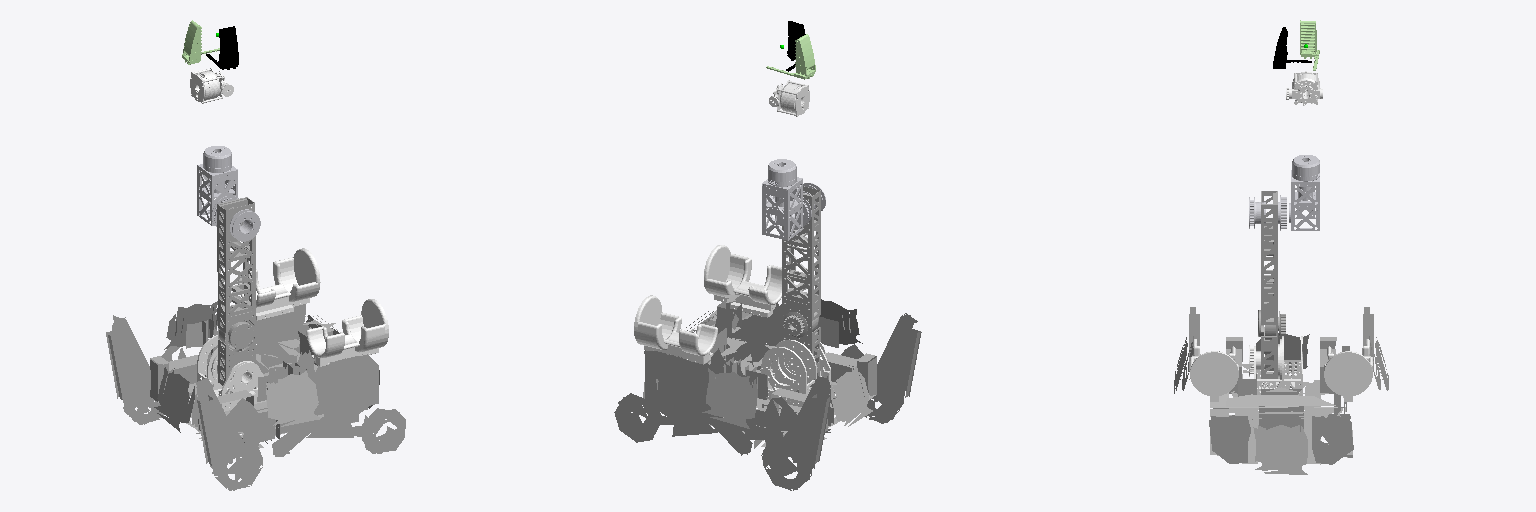
URDF robot description (engineer_v4):
<?xml version="1.0" encoding="utf-8"?>
<!-- This URDF was automatically created by SolidWorks to URDF Exporter! Originally created by
Stephen Brawner (brawner@gmail.com) 
     Commit Version: 1.6.0-4-g7f85cfe  Build Version: 1.6.7995.38578
     For more information, please see http://wiki.ros.org/sw_urdf_exporter -->
<robot
  name="engineer_v4">
  <link
    name="base_link">
    <visual>
      <origin
        xyz="0 0 0"
        rpy="0 0 0" />
      <geometry>
        <mesh
          filename="package://engineer_description/dae/base_link.dae" />
      </geometry>
      <material
        name="">
        <color
          rgba="0.752941176470588 0.752941176470588 0.752941176470588 1" />
      </material>
    </visual>
    <collision>
      <origin
        xyz="0 0 0"
        rpy="0 0 0" />
      <geometry>
        <mesh
          filename="package://engineer_description/collision_dae/base_link.dae" />
      </geometry>
    </collision>
  </link>
  <link
    name="first_slot_link">
    <inertial>
      <origin
        xyz="-0.0299725860567126 -0.0210010541511428 0.000555965757073434"
        rpy="0 0 0" />
      <mass
        value="0.457371475868407" />
      <inertia
        ixx="0.0016314209173607"
        ixy="0.00026727505312052"
        ixz="-7.66197935861787E-05"
        iyy="0.00078447026147815"
        iyz="2.16490673979245E-05"
        izz="0.0016245960496577" />
    </inertial>
    <visual>
      <origin
        xyz="0 0 0"
        rpy="0 0 0" />
      <geometry>
        <mesh
          filename="package://engineer_description/dae/first_slot_link.dae" />
      </geometry>
      <material
        name="">
        <color
          rgba="1 1 1 1" />
      </material>
    </visual>
    <collision>
      <origin
        xyz="0 0 0"
        rpy="0 0 0" />
      <geometry>
        <mesh
          filename="package://engineer_description/collision_dae/first_slot_link.dae" />
      </geometry>
    </collision>
  </link>
  <joint
    name="first_slot_joint"
    type="fixed">
    <origin
      xyz="-0.0472031541832538 0.0300245045193264 0.252923029552021"
      rpy="1.5707963267949 -1.5707963267949 0" />
    <parent
      link="base_link" />
    <child
      link="first_slot_link" />
  </joint>
  <link
    name="second_slot_link">
    <inertial>
      <origin
        xyz="-0.021001166224167 0.0299723666797443 -0.00055561544707089"
        rpy="0 0 0" />
      <mass
        value="0.457374603004739" />
      <inertia
        ixx="0.000784480991192641"
        ixy="-0.000267276658814494"
        ixz="-2.16458688800345E-05"
        iyy="0.00163143018140389"
        iyz="-7.66141894052885E-05"
        izz="0.00162460052222523" />
    </inertial>
    <visual>
      <origin
        xyz="0 0 0"
        rpy="0 0 0" />
      <geometry>
        <mesh
          filename="package://engineer_description/dae/second_slot_link.dae" />
      </geometry>
      <material
        name="">
        <color
          rgba="1 1 1 1" />
      </material>
    </visual>
    <collision>
      <origin
        xyz="0 0 0"
        rpy="0 0 0" />
      <geometry>
        <mesh
          filename="package://engineer_description/collision_dae/second_slot_link.dae" />
      </geometry>
    </collision>
  </link>
  <joint
    name="second_slot_joint"
    type="fixed">
    <origin
      xyz="-0.0472031541832538 0.351024504519326 0.252923029552022"
      rpy="-1.5707963267949 0 3.14159265358979" />
    <parent
      link="base_link" />
    <child
      link="second_slot_link" />
  </joint>
  <link
    name="link1">
    <inertial>
      <origin
        xyz="-0.000357188269648423 0.000760222726987003 0.0730604097875659"
        rpy="0 0 0" />
      <mass
        value="1.2003246264795" />
      <inertia
        ixx="0.00110344971414483"
        ixy="4.36857458704849E-07"
        ixz="-1.06862312344359E-05"
        iyy="0.00168216080239019"
        iyz="8.42838995009528E-06"
        izz="0.00125099173868682" />
    </inertial>
    <visual>
      <origin
        xyz="0 0 0"
        rpy="0 0 0" />
      <geometry>
        <mesh
          filename="package://engineer_description/dae/link1.dae" />
      </geometry>
      <material
        name="">
        <color
          rgba="1 1 1 1" />
      </material>
    </visual>
    <collision>
      <origin
        xyz="0 0 0"
        rpy="0 0 0" />
      <geometry>
        <mesh
          filename="package://engineer_description/collision_dae/link1.dae" />
      </geometry>
    </collision>
  </link>
  <joint
    name="joint1"
    type="revolute">
    <origin
      xyz="-0.26120753672974 0.190524504519326 0.0574255541278649"
      rpy="0 0 3.14159265358979" />
    <parent
      link="base_link" />
    <child
      link="link1" />
    <axis
      xyz="0 0 1" />
    <limit
      lower="-3.14"
      upper="3.14"
      effort="0"
      velocity="0" />
  </joint>
  <link
    name="link2">
    <inertial>
      <origin
        xyz="0.196899648904097 -6.8962282289059E-05 0.0232173591328277"
        rpy="0 0 0" />
      <mass
        value="0.813392084625707" />
      <inertia
        ixx="0.000673036789229952"
        ixy="9.0752917954777E-08"
        ixz="-5.63337289441532E-05"
        iyy="0.0076831561117122"
        iyz="1.5848153385153E-07"
        izz="0.00815581445851113" />
    </inertial>
    <visual>
      <origin
        xyz="0 0 0"
        rpy="0 0 0" />
      <geometry>
        <mesh
          filename="package://engineer_description/dae/link2.dae" />
      </geometry>
      <material
        name="">
        <color
          rgba="0.752941176470588 0.752941176470588 0.752941176470588 1" />
      </material>
    </visual>
    <collision>
      <origin
        xyz="0 0 0"
        rpy="0 0 0" />
      <geometry>
        <mesh
          filename="package://engineer_description/collision_dae/link2.dae" />
      </geometry>
    </collision>
  </link>
  <joint
    name="joint2"
    type="revolute">
    <origin
      xyz="0 0 0.0910000000000011"
      rpy="-1.5707963267949 -1.568 0" />
    <parent
      link="link1" />
    <child
      link="link2" />
    <axis
      xyz="0 0 -1" />
    <limit
      lower="-0.9888"
      upper="1.2000"
      effort="0"
      velocity="0" />
  </joint>
  <link
    name="link3">
    <inertial>
      <origin
        xyz="-0.0183011171276036 -0.0564030679655175 0.0343124536185257"
        rpy="0 0 0" />
      <mass
        value="0.799120380289198" />
      <inertia
        ixx="0.000564646098922074"
        ixy="-1.38701383125454E-05"
        ixz="-1.42774820952325E-06"
        iyy="0.000525908835793181"
        iyz="-5.04104927677511E-06"
        izz="0.000668018718919332" />
    </inertial>
    <visual>
      <origin
        xyz="0 0 0"
        rpy="0 0 0" />
      <geometry>
        <mesh
          filename="package://engineer_description/dae/link3.dae" />
      </geometry>
      <material
        name="">
        <color
          rgba="0.866666666666667 0.866666666666667 0.890196078431372 1" />
      </material>
    </visual>
    <collision>
      <origin
        xyz="0 0 0"
        rpy="0 0 0" />
      <geometry>
        <mesh
          filename="package://engineer_description/collision_dae/link3.dae" />
      </geometry>
    </collision>
  </link>
  <joint
    name="joint3"
    type="revolute">
    <origin
      xyz="0.389999999999999 0 0"
      rpy="-3.14159265358979 0 -1.89" />
    <parent
      link="link2" />
    <child
      link="link3" />
    <axis
      xyz="0 0 1" />
    <limit
      lower="-2.8624"
      upper="2.6543"
      effort="0"
      velocity="0" />
  </joint>
  <link
    name="link4">
    <inertial>
      <origin
        xyz="-1.85366305129886E-05 0.00353819121598634 -0.210577010456394"
        rpy="0 0 0" />
      <mass
        value="0.451620229714316" />
      <inertia
        ixx="0.000450940900760466"
        ixy="-5.15815844889911E-08"
        ixz="-2.49726005905619E-08"
        iyy="0.000475467864605353"
        iyz="5.42674576797712E-10"
        izz="0.000173374319286848" />
    </inertial>
    <visual>
      <origin
        xyz="0 0 0"
        rpy="0 0 0" />
      <geometry>
        <mesh
          filename="package://engineer_description/dae/link4.dae" />
      </geometry>
      <material
        name="">
        <color
          rgba="0.898039215686275 0.917647058823529 0.929411764705882 1" />
      </material>
    </visual>
    <collision>
      <origin
        xyz="0 0 0"
        rpy="0 0 0" />
      <geometry>
        <mesh
          filename="package://engineer_description/collision_dae/link4.dae" />
      </geometry>
    </collision>
  </link>
  <joint
    name="joint4"
    type="revolute">
    <origin
      xyz="0 0 0.0591999999999989"
      rpy="1.5707963267949 0 2.82801601798317" />
    <parent
      link="link3" />
    <child
      link="link4" />
    <axis
      xyz="0 0 -1" />
    <limit
      lower="-3.14"
      upper="3.14"
      effort="0"
      velocity="0" />
  </joint>
  <link
    name="link5">
    <inertial>
      <origin
        xyz="0.0236461854249562 0.000252585259627791 -3.10582093318579E-06"
        rpy="0 0 0" />
      <mass
        value="0.386292385114177" />
      <inertia
        ixx="0.000206580198244635"
        ixy="1.16898826944609E-07"
        ixz="-1.22627594636964E-08"
        iyy="0.000128593321208887"
        iyz="-3.66505131431251E-09"
        izz="0.000117816851749595" />
    </inertial>
    <visual>
      <origin
        xyz="0 0 0"
        rpy="0 0 0" />
      <geometry>
        <mesh
          filename="package://engineer_description/dae/link5.dae" />
      </geometry>
      <material
        name="">
        <color
          rgba="1 1 1 1" />
      </material>
    </visual>
    <collision>
      <origin
        xyz="0 0 0"
        rpy="0 0 0" />
      <geometry>
        <mesh
          filename="package://engineer_description/collision_dae/link5.dae" />
      </geometry>
    </collision>
  </link>
  <joint
    name="joint5"
    type="revolute">
    <origin
      xyz="0 0 -0.314999999999995"
      rpy="1.5707963267949 -1.5707963267949 0" />
    <parent
      link="link4" />
    <child
      link="link5" />
    <axis
      xyz="0 0 -1" />
    <limit
      lower="-1.6828"
      upper="1.6828"
      effort="0"
      velocity="0" />
  </joint>
  <link
    name="link6">
    <inertial>
      <origin
        xyz="-2.92607973814696E-06 -2.88445725311615E-05 0.0543651305617022"
        rpy="0 0 0" />
      <mass
        value="0.288814280860144" />
      <inertia
        ixx="0.000215298648963599"
        ixy="-1.1564148562091E-05"
        ixz="-2.94525426553043E-09"
        iyy="7.55153561166776E-05"
        iyz="-4.25732713011413E-08"
        izz="0.000255880381587993" />
    </inertial>
    <visual>
      <origin
        xyz="0 0 0"
        rpy="0 0 0" />
      <geometry>
        <mesh
          filename="package://engineer_description/dae/link6.dae" />
      </geometry>
      <material
        name="">
        <color
          rgba="0.113725490196078 0.113725490196078 0.113725490196078 1" />
      </material>
    </visual>
    <collision>
      <origin
        xyz="0 0 0"
        rpy="0 0 0" />
      <geometry>
        <mesh
          filename="package://engineer_description/collision_dae/link6.dae" />
      </geometry>
    </collision>
  </link>
  <joint
    name="joint6"
    type="revolute">
    <origin
      xyz="0 0 0"
      rpy="3.13387314293277 1.5707963267949 0" />
    <parent
      link="link5" />
    <child
      link="link6" />
    <axis
      xyz="0 0 1" />
    <limit
      lower="-3.14"
      upper="3.14"
      effort="0"
      velocity="0" />
  </joint>
  <link
    name="right_finger_link">
    <inertial>
      <origin
        xyz="0.061259614914889 -0.00106641408212199 0.0351652091113552"
        rpy="0 0 0" />
      <mass
        value="0.0874237376139129" />
      <inertia
        ixx="3.87878846405327E-05"
        ixy="-5.98747994572176E-08"
        ixz="3.56630615088067E-06"
        iyy="4.0710808114335E-05"
        iyz="8.07405202409304E-09"
        izz="1.30816147228006E-05" />
    </inertial>
    <visual>
      <origin
        xyz="0 0 0"
        rpy="0 0 0" />
      <geometry>
        <mesh
          filename="package://engineer_description/dae/right_finger_link.dae" />
      </geometry>
      <material
        name="">
        <color
          rgba="0 0 0 1" />
      </material>
    </visual>
    <collision>
      <origin
        xyz="0 0 0"
        rpy="0 0 0" />
      <geometry>
        <mesh
          filename="package://engineer_description/collision_dae/right_finger_link.dae" />
      </geometry>
    </collision>
  </link>
  <joint
    name="right_finger_joint"
    type="prismatic">
    <origin
      xyz="0 0 0.076"
      rpy="0 0 -1.6526" />
    <parent
      link="link6" />
    <child
      link="right_finger_link" />
    <axis
      xyz="-1 0 0" />
    <limit
      lower="-3.14"
      upper="3.14"
      effort="0"
      velocity="0" />
    <mimic joint="left_finger_joint" />
  </joint>
  <link
    name="left_finger_link">
    <inertial>
      <origin
        xyz="-0.0616953855224335 0.00100446362083845 0.0362236300960044"
        rpy="0 0 0" />
      <mass
        value="0.0842574260316998" />
      <inertia
        ixx="3.87666538055204E-05"
        ixy="-5.98747994570901E-08"
        ixz="-3.56630615087811E-06"
        iyy="4.05793075596116E-05"
        iyz="-7.99767382292093E-09"
        izz="1.29501141680779E-05" />
    </inertial>
    <visual>
      <origin
        xyz="0 0 0"
        rpy="0 0 0" />
      <geometry>
        <mesh
          filename="package://engineer_description/dae/left_finger_link.dae" />
      </geometry>
      <material
        name="">
        <color
          rgba="0.8 0.956862745098039 0.72156862745098 1" />
      </material>
    </visual>
    <collision>
      <origin
        xyz="0 0 0"
        rpy="0 0 0" />
      <geometry>
        <mesh
          filename="package://engineer_description/collision_dae/left_finger_link.dae" />
      </geometry>
    </collision>
  </link>
  <joint
    name="left_finger_joint"
    type="prismatic">
    <origin
      xyz="0 0 0.076"
      rpy="0 0 -1.6526" />
    <parent
      link="link6" />
    <child
      link="left_finger_link" />
    <axis
      xyz="1 0 0" />
    <limit
      lower="0.0000"
      upper="0.0470"
      effort="0"
      velocity="0" />
  </joint>
  <link name="tcp_link">
    <visual>
      <origin xyz="0 0 0" rpy="0 0 0" />
      <geometry>
        <!-- 半径设为 1cm，方便观察 -->
        <sphere radius="0.005" />
      </geometry>
      <material name="green_transparent">
        <color rgba="0 1 0 0.5" />
      </material>
    </visual>
  </link>
  <joint name="tcp_joint" type="fixed">
    <origin xyz="0 0 0.125" rpy="0 0 0" />
    <parent link="link6" />
    <child link="tcp_link" />
  </joint>
</robot>

--- Render facts (derived) ---
The picture shows the robot from 3 angles, left to right: view 1: azimuth 30°, elevation 25°; view 2: azimuth 150°, elevation 25°; view 3: azimuth 270°, elevation 25°; orthographic projection.
Model engineer_v4 with 12 links and 11 joints (6 revolute, 2 prismatic, 3 fixed), rooted at base_link, posed every joint at zero.
Links seen in each view (by area): view 1: base_link, link2, link3, first_slot_link, second_slot_link, link1, link5, right_finger_link, left_finger_link; view 2: base_link, link2, first_slot_link, second_slot_link, link3, link1, link5, left_finger_link; view 3: base_link, link2, link3, second_slot_link, first_slot_link, link1, link5, left_finger_link.
Link boxes in pixels (x1,y1,x2,y2): base_link: (106, 301, 405, 490); link2: (217, 197, 255, 386); link3: (197, 146, 260, 241); first_slot_link: (306, 299, 388, 366); second_slot_link: (238, 248, 320, 320); link1: (197, 335, 265, 411); link5: (190, 68, 233, 103); right_finger_link: (206, 26, 238, 69); left_finger_link: (182, 20, 219, 64); base_link: (614, 295, 921, 490); link2: (782, 186, 820, 372); first_slot_link: (704, 245, 787, 317); second_slot_link: (634, 295, 717, 364); link3: (762, 159, 825, 240); link1: (761, 340, 830, 406); link5: (769, 80, 809, 116); left_finger_link: (766, 34, 815, 79); base_link: (1174, 307, 1388, 474); link2: (1258, 191, 1285, 378); link3: (1249, 155, 1319, 230); second_slot_link: (1324, 339, 1372, 401); first_slot_link: (1190, 339, 1238, 401); link1: (1249, 336, 1302, 395); link5: (1286, 71, 1322, 105); left_finger_link: (1300, 20, 1319, 70).
Bounding box of the posed robot: 0.5567 × 0.5286 × 1.08 m (x, y, z).
Meshes: 11 distinct files referenced, 9 mesh visuals loaded (9 Collada DAE); not drawn: 2 (reference not matched to a file when rendering).
